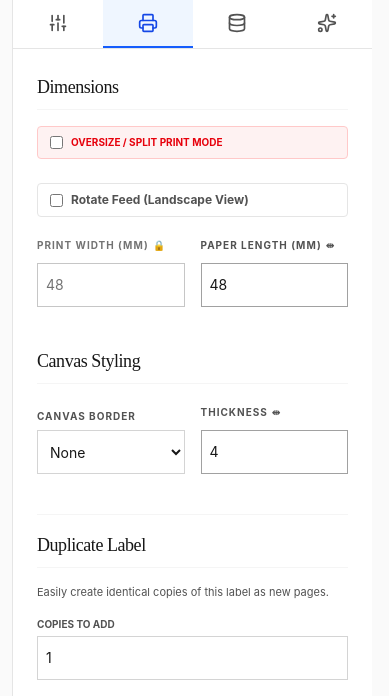
Test: shape fields expose names and visible-label associations
This screenshot has width=389, height=696.
Click the tab named "Element and layout" at (58,24), box [13,0,103,48]
(page scrolled)
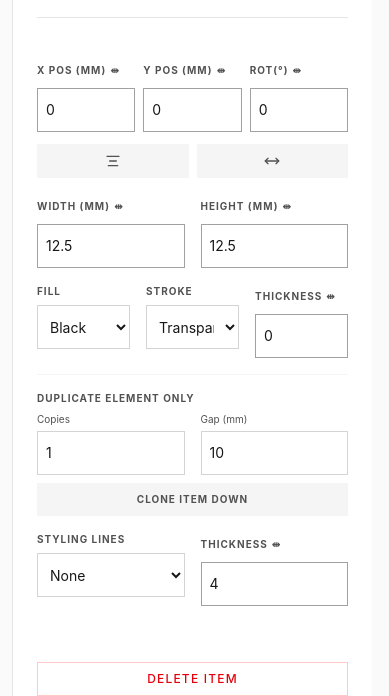
Expected: the number field labelled "X Pos (mm) ⇹" is shown, [37,88,135,132]
Expected: the number field labelled "Y Pos (mm) ⇹" is shown, [143,88,242,132]
Expected: the number field labelled "Rot(°) ⇹" is shown, [250,88,348,132]
